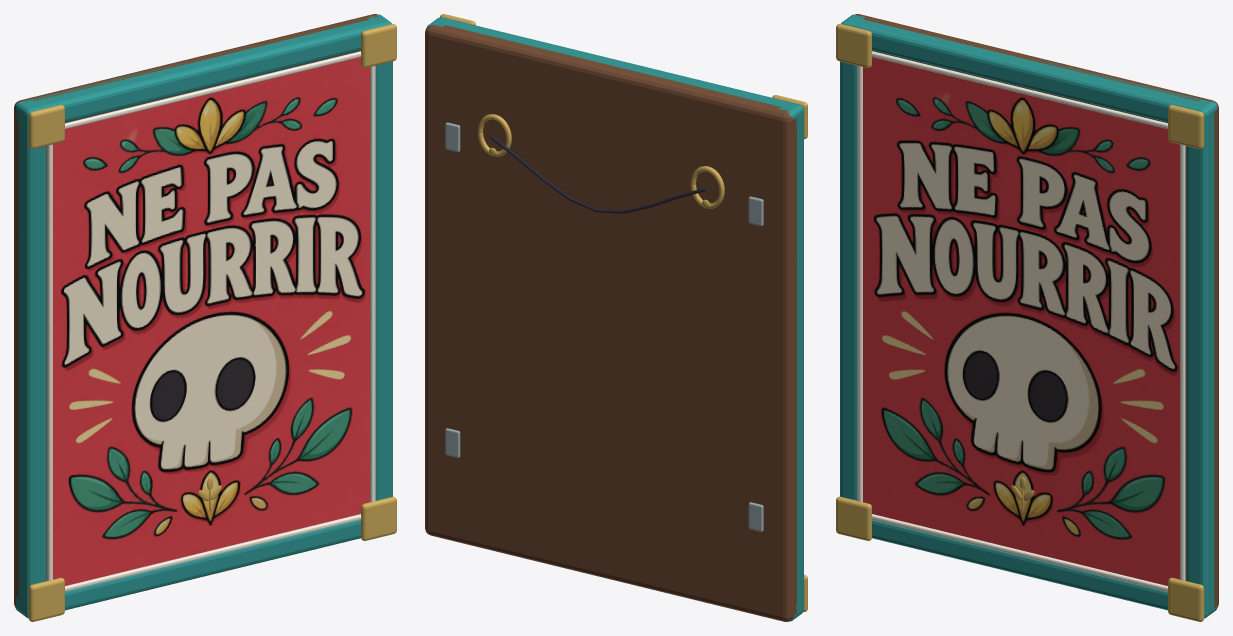
The model's file is poster_skull.glb.
The picture shows the model from 3 angles, left to right: view 1: azimuth 30°, elevation 25°; view 2: azimuth 150°, elevation 25°; view 3: azimuth 330°, elevation 25°; orthographic projection.
Parts seen in each view (by area): view 1: Flat_framed_artwork, Teal_vertical_frame, Teal_horizontal_frame.001, Teal_vertical_frame.001, Teal_horizontal_frame, Wood_backing, Cream_inner_vertical, Cream_inner_vertical.001, Cream_inner_horizontal, Cream_inner_horizontal.001, Brass_corner.001, Brass_corner (+2 smaller); view 2: Wood_backing, Teal_vertical_frame, Teal_horizontal_frame.001, Rear_hanging_wire, Rear_triangle_hanger, Rear_triangle_hanger.001; view 3: Flat_framed_artwork, Teal_vertical_frame.001, Teal_horizontal_frame.001, Teal_vertical_frame, Teal_horizontal_frame, Wood_backing, Cream_inner_vertical.001, Cream_inner_vertical, Cream_inner_horizontal, Cream_inner_horizontal.001, Brass_corner.003, Brass_corner.002 (+2 smaller).
Part boxes in pixels (x1,y1,x2,y2): Flat_framed_artwork: (53, 57, 369, 585); Teal_vertical_frame: (15, 99, 46, 612); Teal_horizontal_frame.001: (15, 17, 391, 127); Teal_vertical_frame.001: (367, 14, 392, 500); Teal_horizontal_frame: (15, 520, 360, 618); Wood_backing: (14, 14, 378, 607); Cream_inner_vertical: (47, 144, 52, 580); Cream_inner_vertical.001: (370, 65, 375, 501); Cream_inner_horizontal: (65, 514, 361, 591); Cream_inner_horizontal.001: (65, 51, 361, 128); Brass_corner.001: (28, 105, 64, 148); Brass_corner: (28, 577, 64, 621); Wood_backing: (425, 24, 796, 621); Teal_vertical_frame: (778, 102, 803, 621); Teal_horizontal_frame.001: (433, 17, 803, 127); Rear_hanging_wire: (490, 135, 706, 213); Rear_triangle_hanger: (690, 166, 724, 208); Rear_triangle_hanger.001: (477, 114, 511, 156); Flat_framed_artwork: (863, 57, 1179, 585); Teal_vertical_frame.001: (1186, 99, 1217, 618); Teal_horizontal_frame.001: (841, 14, 1216, 127); Teal_vertical_frame: (840, 14, 865, 500); Teal_horizontal_frame: (872, 520, 1217, 615); Wood_backing: (854, 14, 1218, 607); Cream_inner_vertical.001: (1180, 144, 1185, 580); Cream_inner_vertical: (857, 65, 862, 501); Cream_inner_horizontal: (871, 514, 1167, 591); Cream_inner_horizontal.001: (871, 51, 1167, 128); Brass_corner.003: (1168, 105, 1204, 148); Brass_corner.002: (1168, 577, 1204, 621).
Size of the model in its own units: 0.46 by 0.61 by 0.065.
8 materials, 1 textured.
